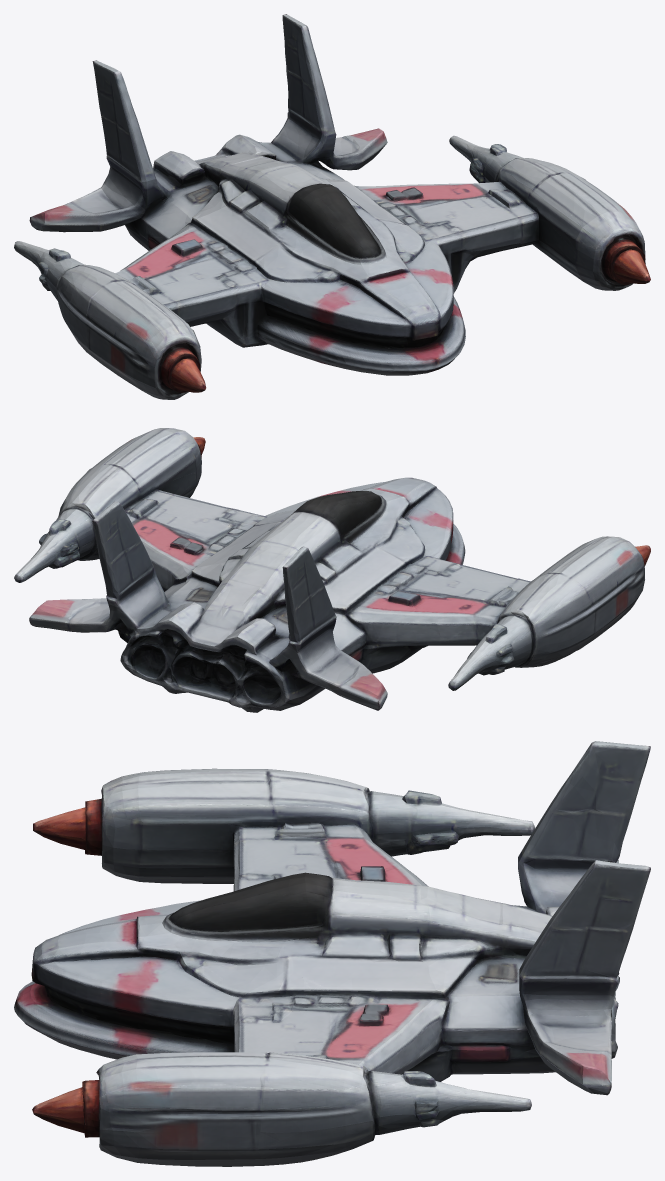
The picture shows the model from 3 angles, top to bottom: view 1: azimuth 30°, elevation 25°; view 2: azimuth 150°, elevation 25°; view 3: azimuth 270°, elevation 25°; orthographic projection. The views are drawn at different scales.
Visible parts, largest first — view 1: world; view 2: world; view 3: world.
Part boxes in pixels (<box>): world: <box>14,14,650,399</box>; world: <box>14,428,650,712</box>; world: <box>14,741,650,1166</box>.
Bounding box in the file's own units: 0.9997 × 0.3459 × 0.8337.
Materials: 1 (1 with a texture image).
